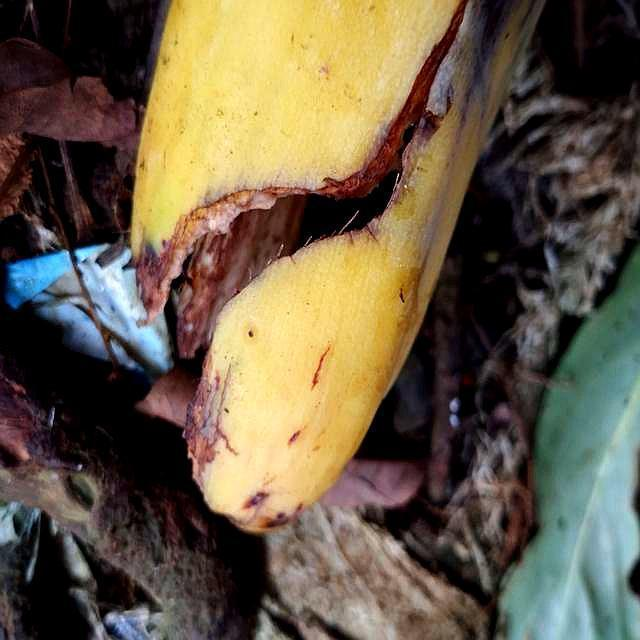Biodegradable: (133, 1, 537, 513)
